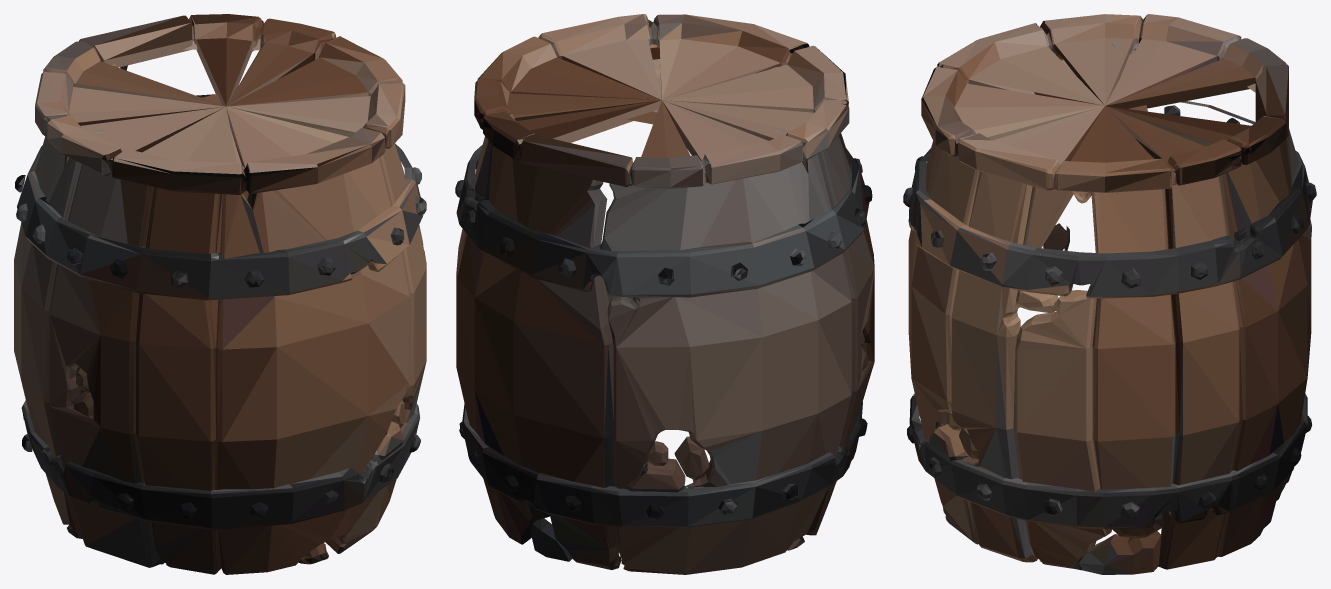
File: Barrel.glb
3 views of the same model, side by side, from view 1: azimuth 30°, elevation 25°; view 2: azimuth 150°, elevation 25°; view 3: azimuth 270°, elevation 25° (orthographic).
Parts seen in each view (by area): view 1: world; view 2: world; view 3: world.
Boxes of the visible parts, x1=… form: world: x1=14, y1=14, x2=426, y2=574; world: x1=455, y1=14, x2=874, y2=574; world: x1=903, y1=14, x2=1316, y2=574.
Size of the model in its own units: 0.9082 by 0.998 by 0.9004.
